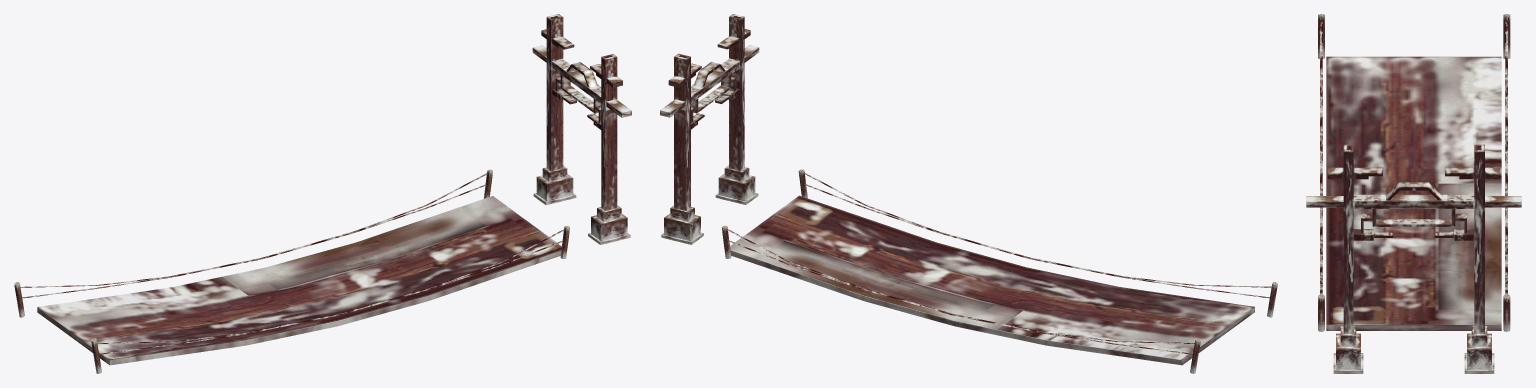
Rendered from SC103Hguodao_20.fbx.
3 views of the same model, side by side, from view 1: azimuth 30°, elevation 25°; view 2: azimuth 150°, elevation 25°; view 3: azimuth 270°, elevation 25° (orthographic). The views are drawn at different scales.
Visible parts, largest first — view 1: pPlane1, polySurface32, polySurface10; view 2: pPlane1, polySurface32, polySurface10; view 3: pPlane1, polySurface32, polySurface10.
Part boxes in pixels (<box>): pPlane1: <box>37,196,561,360</box>; polySurface32: <box>532,14,631,244</box>; polySurface10: <box>14,169,569,373</box>; pPlane1: <box>730,195,1254,359</box>; polySurface32: <box>660,14,759,244</box>; polySurface10: <box>721,169,1277,373</box>; pPlane1: <box>1326,56,1501,324</box>; polySurface32: <box>1306,144,1521,373</box>; polySurface10: <box>1318,14,1510,331</box>.
Size of the model in its own units: 4445 by 1516 by 1263.
